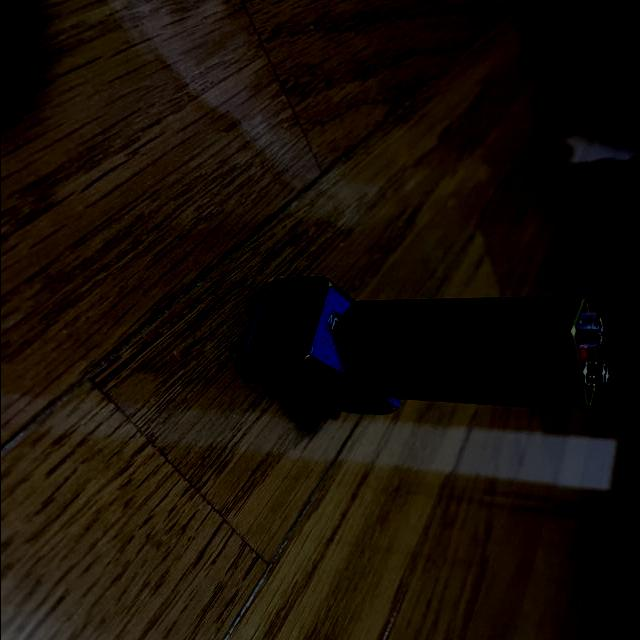9V: (335, 295, 609, 412), (237, 276, 399, 416)
